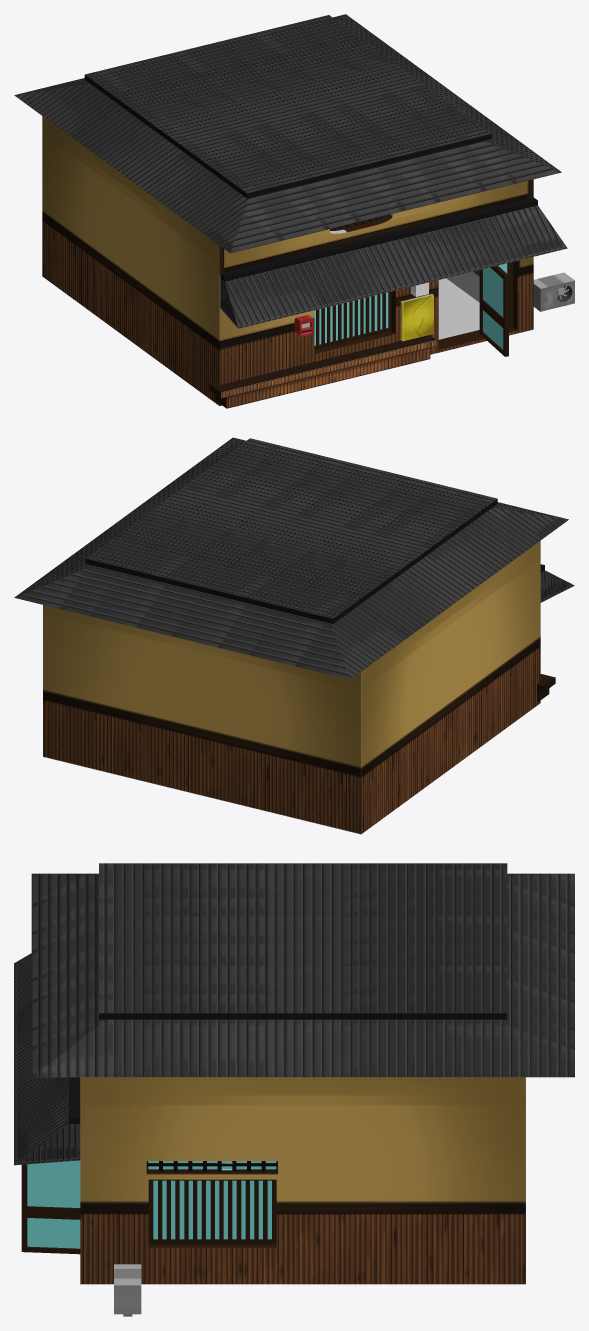
The model's file is HouseOBJTest.fbx.
The picture shows the model from 3 angles, top to bottom: view 1: azimuth 30°, elevation 25°; view 2: azimuth 150°, elevation 25°; view 3: azimuth 270°, elevation 25°; orthographic projection. The views are drawn at different scales.
Parts seen in each view (by area): view 1: Top, building, Cube.015, Cube.030, Cube.014, Cube.011, Cube.016, Cube.008; view 2: building, Top, Cube.015; view 3: Top, building, Cube.019, Cube.015, Cube.011, Cube.013, Cube.008.
Boxes of the visible parts, x1,y1,x2,y2 form: Top: (14,14,561,253); building: (42,116,533,405); Cube.015: (220,197,567,328); Cube.030: (209,335,436,408); Cube.014: (314,291,391,349); Cube.011: (479,265,508,356); Cube.016: (400,294,433,341); Cube.008: (533,272,574,311); building: (43,541,540,834); Top: (14,437,568,679); Cube.015: (540,564,574,602); Top: (31,863,574,1077); building: (80,1077,525,1284); Cube.019: (148,1179,276,1244); Cube.015: (14,953,80,1165); Cube.011: (21,1160,80,1254); Cube.013: (146,1161,277,1171); Cube.008: (114,1264,141,1316).
Bounding box in the file's own units: 1609 × 812 × 1647.
